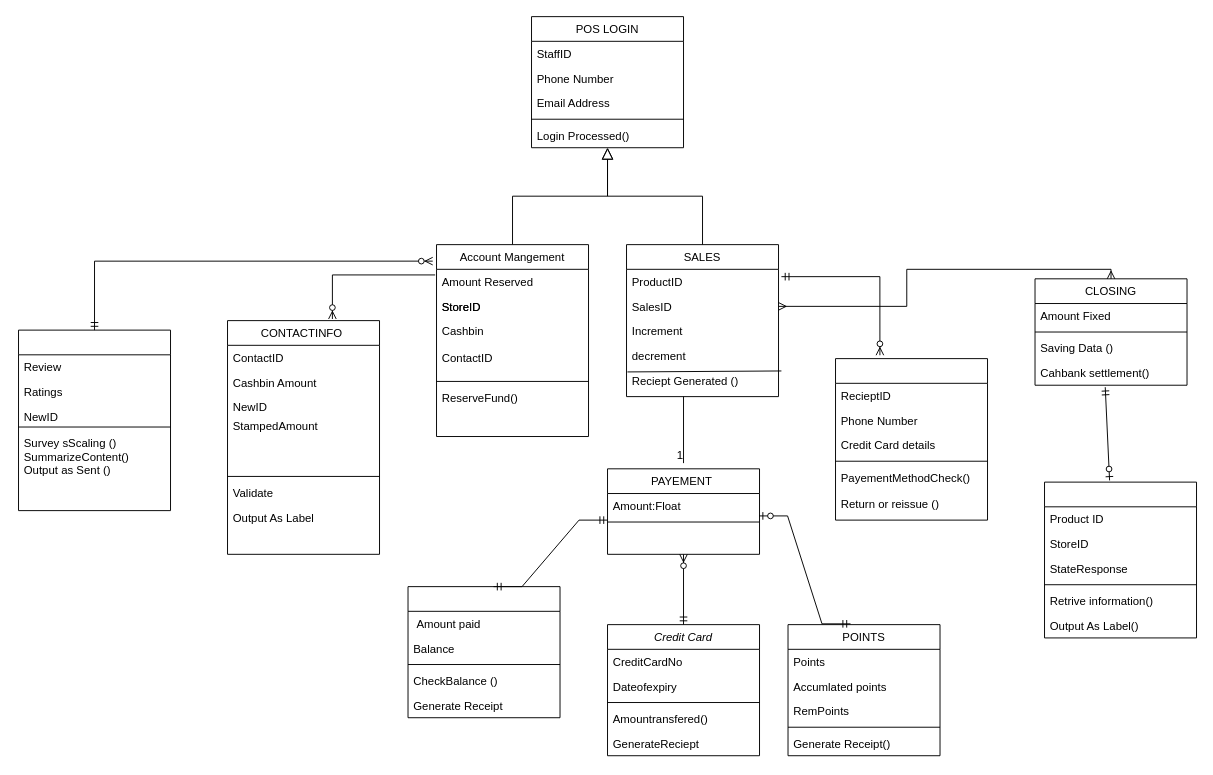
Image size: 1213x775. Some labels were removed from this diagram. The shapes that lost their labels are listed below. From the top down, each one's box as (x1, y1, x2, y2) in pixels, then its label:
(18, 329, 171, 511): CUSTOMER REGISTRATION
(835, 358, 988, 520): SALES RETURN
(1044, 481, 1197, 638): Cancel Closing
(407, 586, 560, 718): CASH
